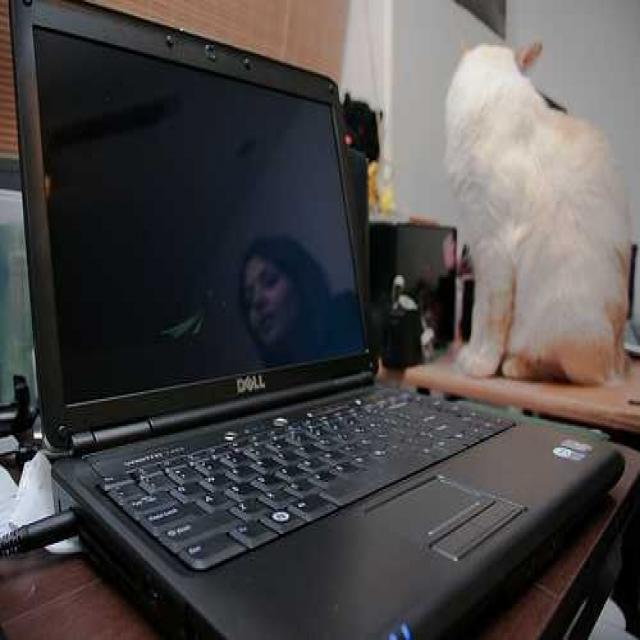laptop: (0, 3, 622, 640)
